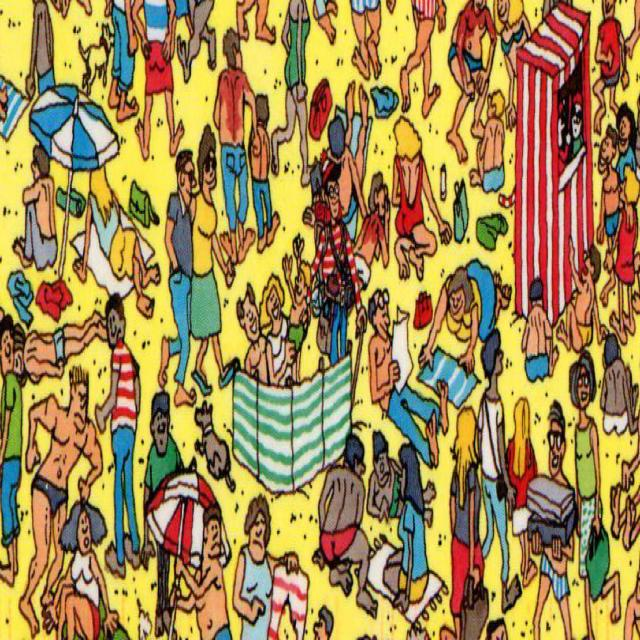waldo: (322, 149, 342, 218)
